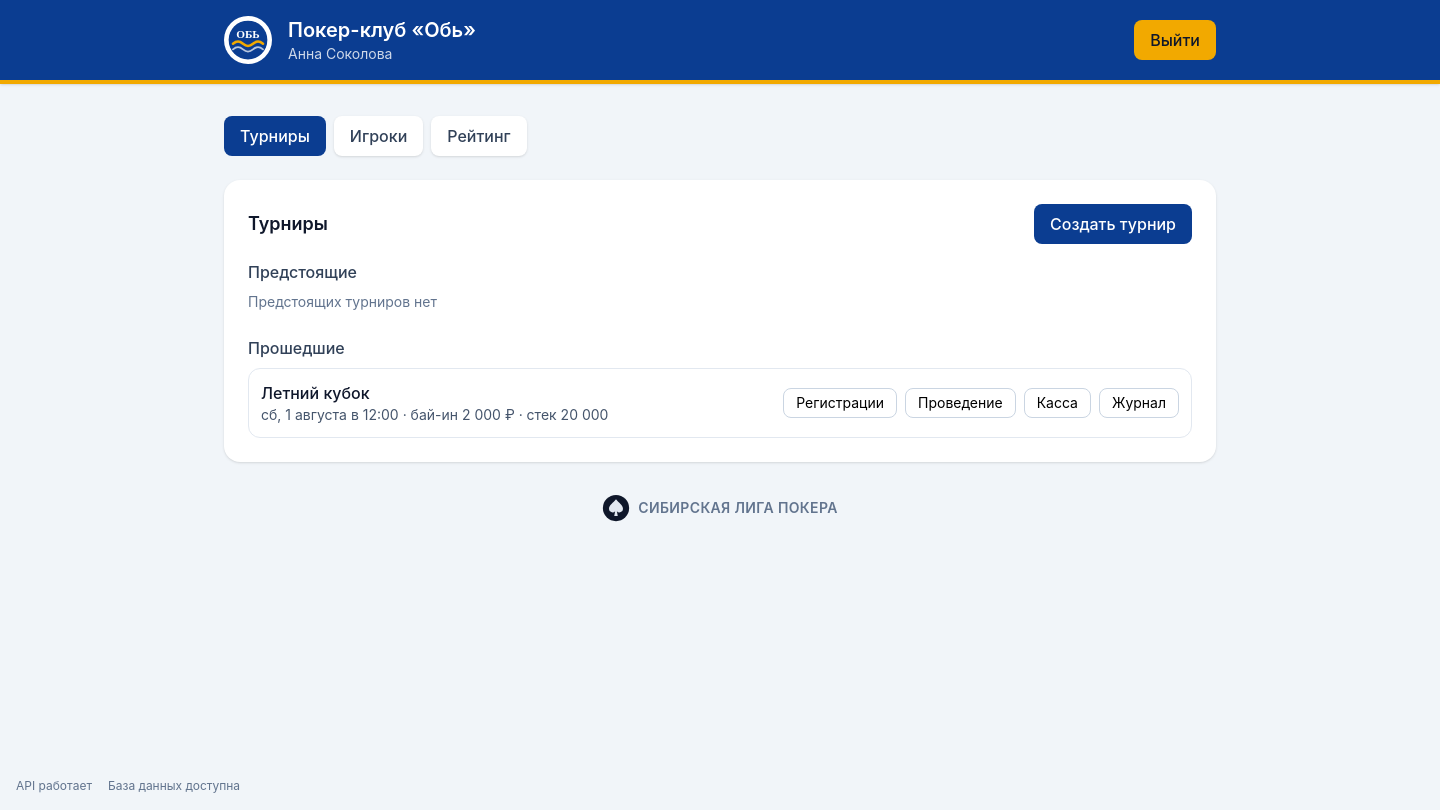
Test case: tournament registrations › offers no sign-ups or check-ins once they are closed
This screenshot has width=1440, height=810.
What coordinates should you click on to do the following:
click the button "Регистрации"
I would click on:
 (840, 403)
Its box is [783,388,897,418].
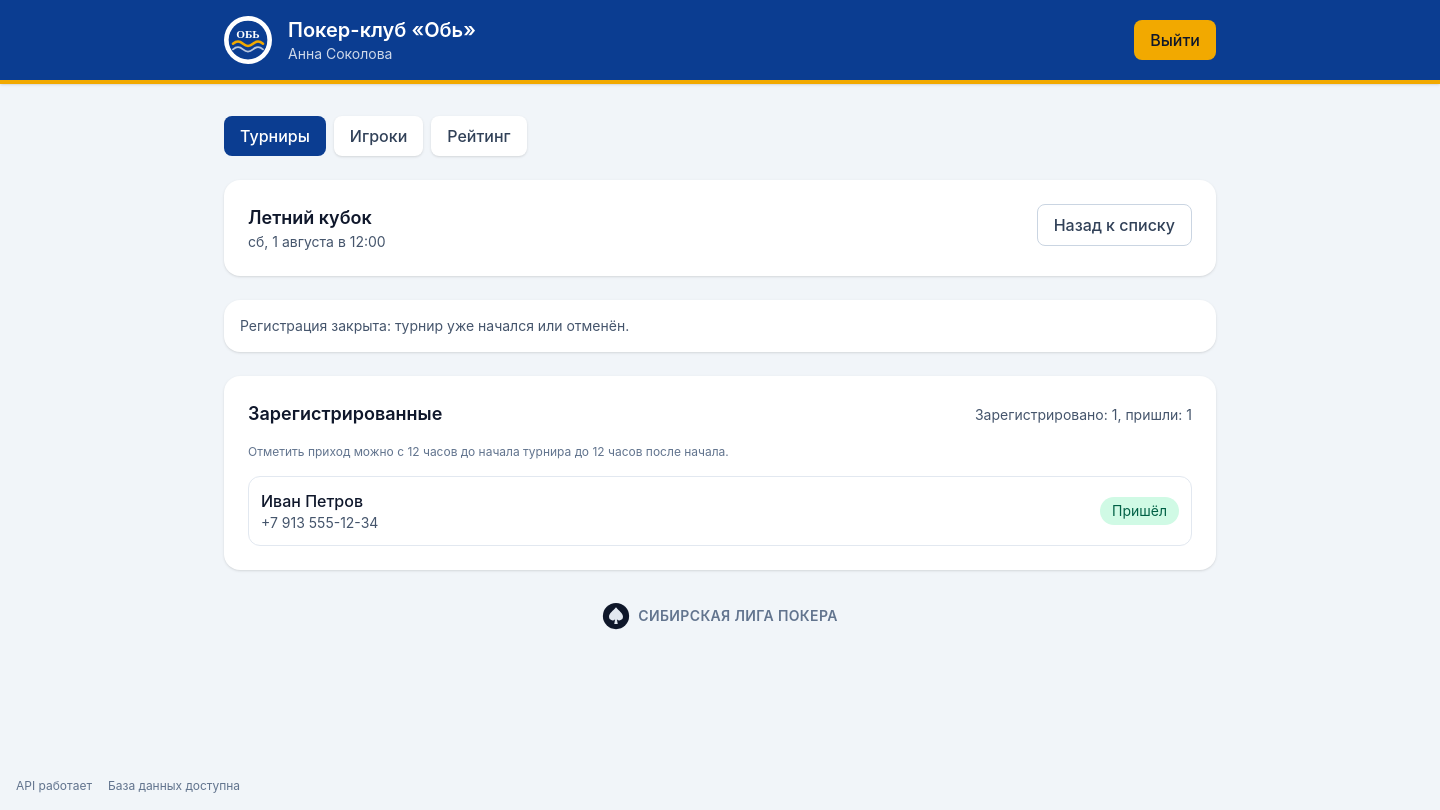
Expected: the heading "Летний кубок" is shown, [248,204,386,232]
Expected: the list item "Иван Петров" shows "Пришёл", [1112,502,1167,519]
Expected: the button "Создать турнир" is gone
